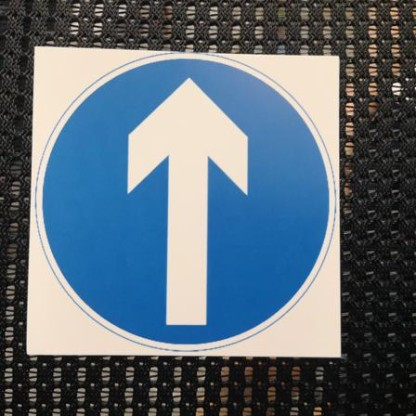forward: (32, 42, 341, 361)
